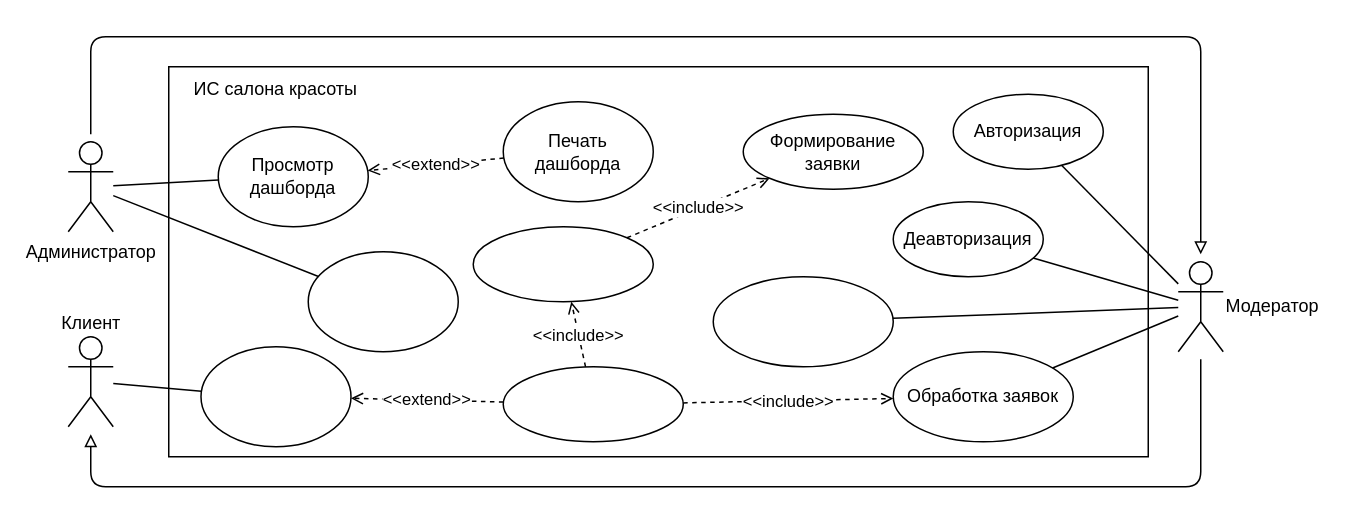
This 1346x525 diagram has some shape labels left out. The shapes that lost their labels are listed below. From the top down, each one's centre as x and y in pixels, then its label:
At (562,263): "Оптравление завяки".
At (382,301): "Определение аккаунтов".
At (802,321): "Определение содержимого каталога".
At (275,396): "Просмотр каталога".
At (592,403): "Запись на приём".
